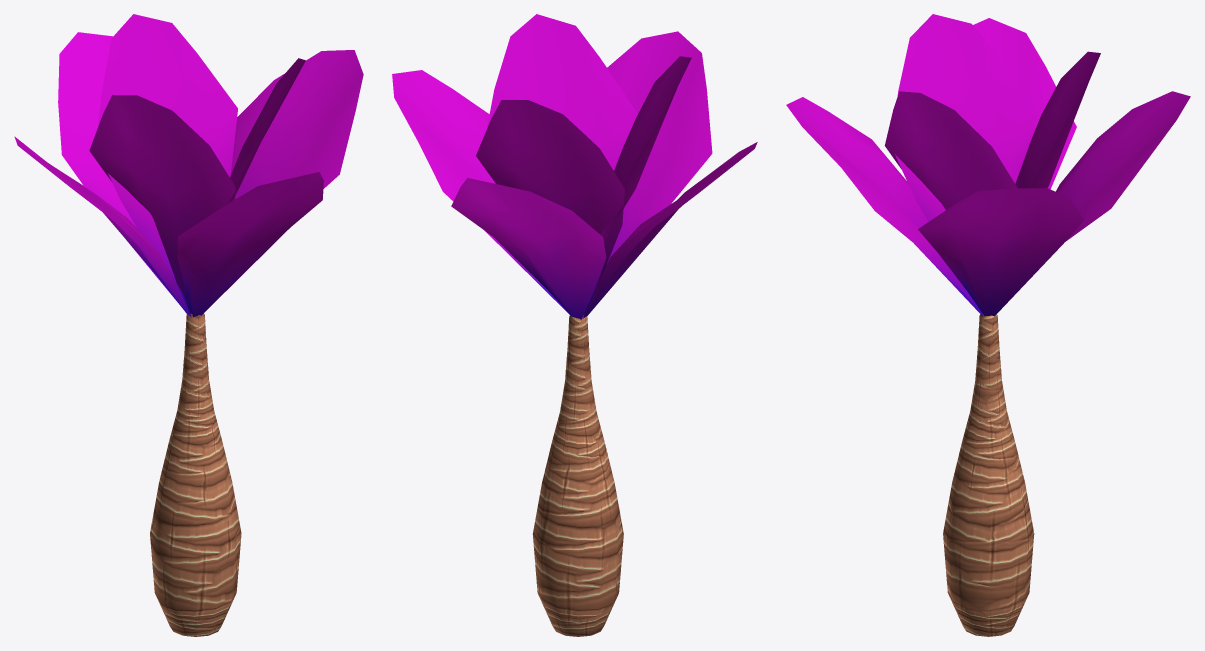
Rendered from Tree_Palm_07.fbx.
The picture shows the model from 3 angles, left to right: view 1: azimuth 30°, elevation 25°; view 2: azimuth 150°, elevation 25°; view 3: azimuth 270°, elevation 25°; orthographic projection.
Parts seen in each view (by area): view 1: Palm_07; view 2: Palm_07; view 3: Palm_07.
Boxes of the visible parts, x1,y1,x2,y2 form: Palm_07: [14, 14, 363, 636]; Palm_07: [392, 14, 757, 636]; Palm_07: [786, 14, 1190, 636].
Bounding box in the file's own units: 262 × 408 × 263.
